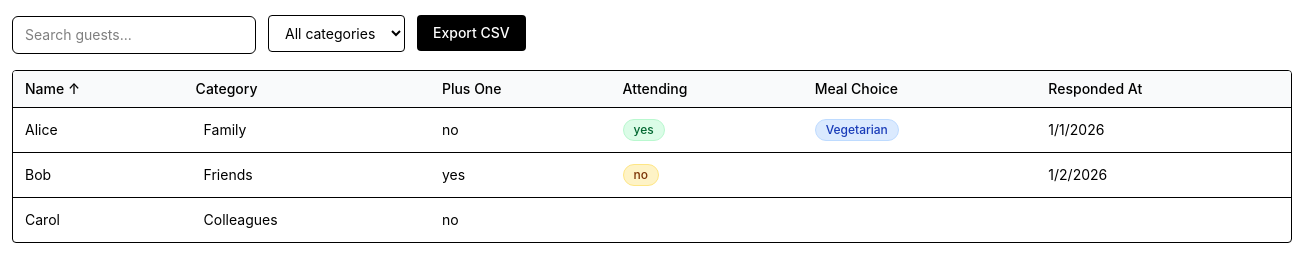
Scenario: GuestTable › filters by search
Type "alice" into the field labelled "Search guests..." at (134,35), box [12,16,256,54]
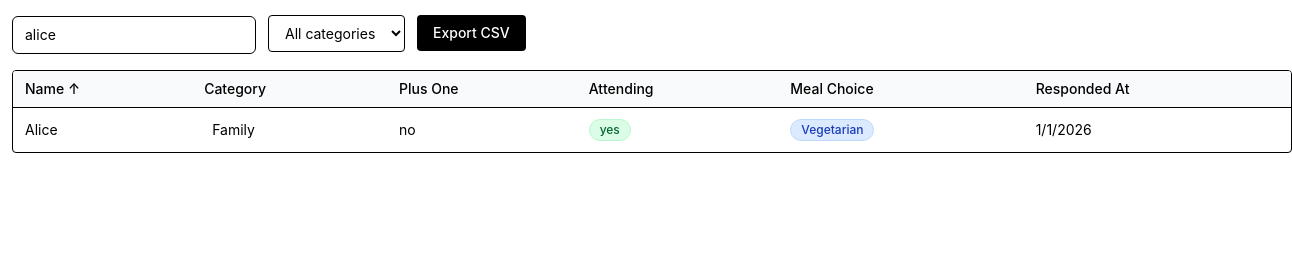
expect the text "Alice" is shown: met, box [13,108,192,152]
expect the text "Bob" is gone: met
expect the text "Carol" is gone: met
Clear the field named "Search guests" at (134,35), box [12,16,256,54]
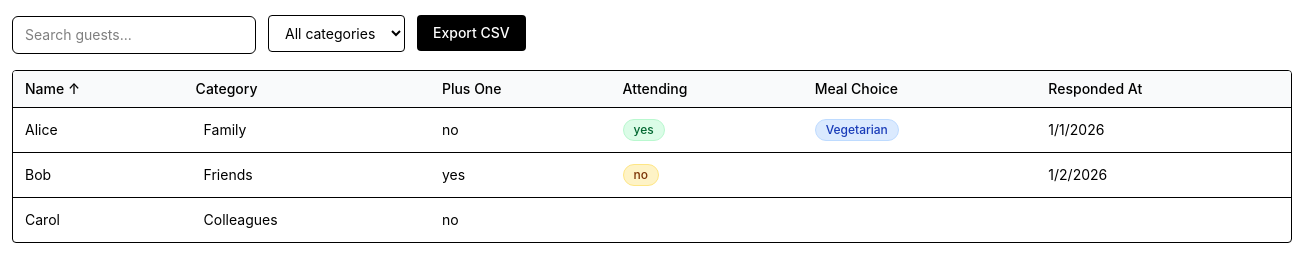
expect the text "Bob" is shown: met, box [13,152,184,198]
